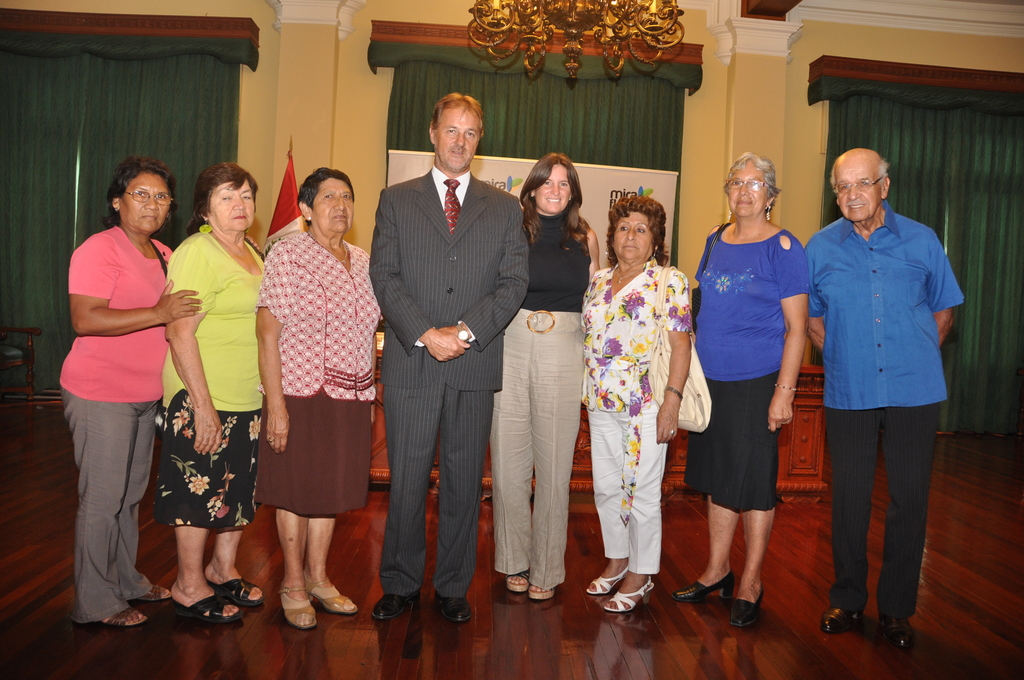Footwear: (156, 589, 243, 624), (599, 565, 654, 613), (668, 565, 737, 603), (301, 569, 354, 618), (367, 589, 425, 629), (204, 567, 264, 604), (584, 553, 636, 595), (271, 585, 317, 631), (728, 580, 767, 630), (431, 584, 474, 627), (79, 605, 149, 631), (820, 605, 867, 635), (877, 618, 918, 652), (128, 580, 170, 608), (505, 569, 532, 596), (527, 583, 559, 605)
